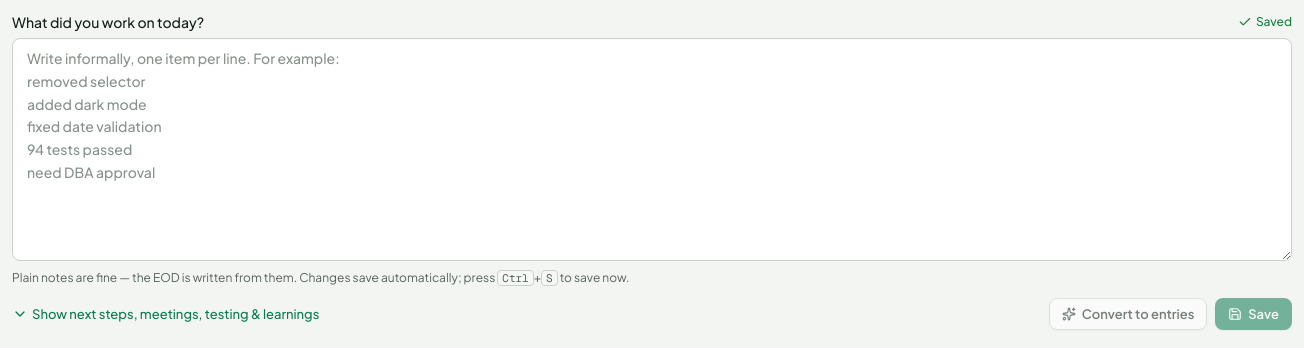
Test: Work log notes › tracks unsaved changes, saves to the server and keeps a local draft
The width and height of the screenshot is (1304, 348).
Check: the message reads "Saved", box 1256,14 -> 1292,29
Step 1. Type "removed selector" into the text box labelled "What did you work on today?" → (652, 149), box 12,38 -> 1292,261
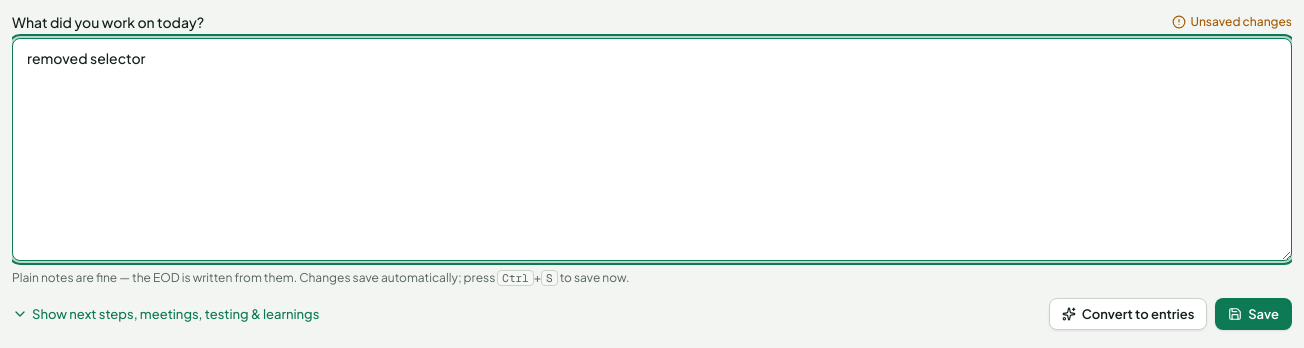
Check: the message reads "Unsaved changes", box 1190,14 -> 1292,29
Step 2. Click the button "Save" → click(1254, 314), box 1215,298 -> 1292,330
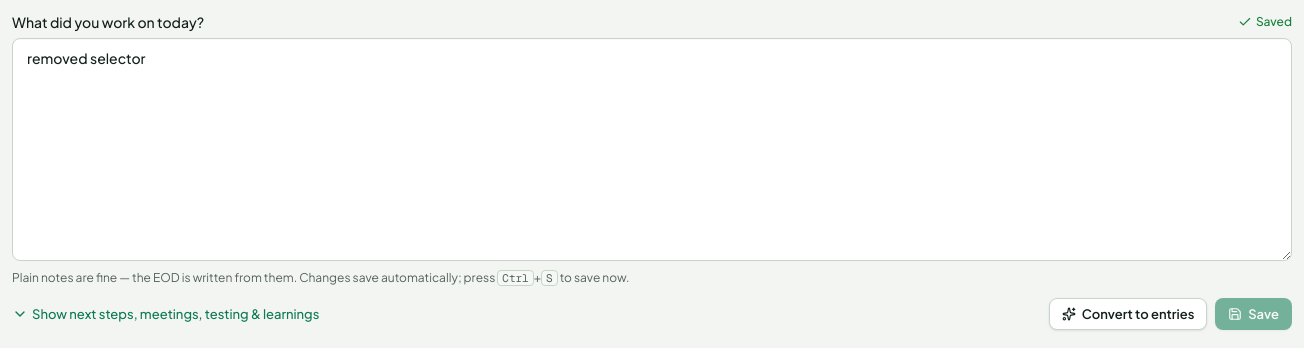
Check: the message reads "Saved", box 1256,14 -> 1292,29
